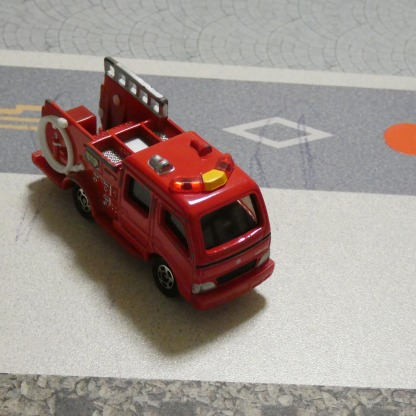car: (21, 57, 282, 321)
